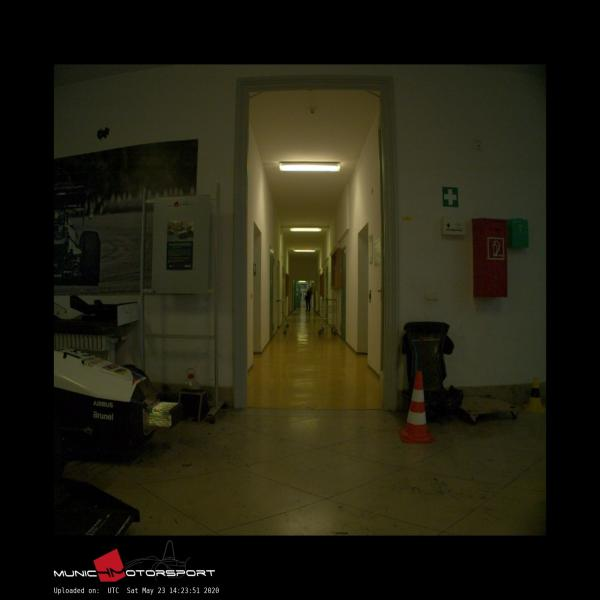large_orange_cone: (399, 371, 434, 443)
